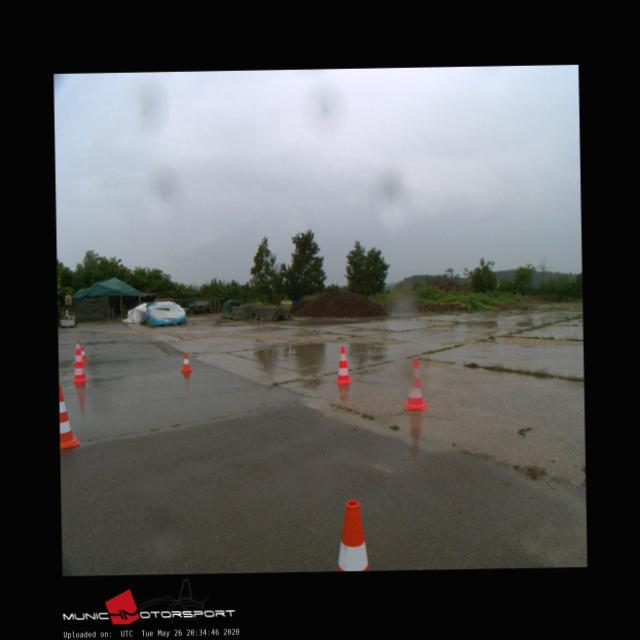large_orange_cone: (58, 384, 78, 450), (402, 358, 427, 410), (333, 345, 352, 383), (71, 348, 88, 381)
orange_cone: (180, 352, 191, 372), (80, 346, 87, 360)
